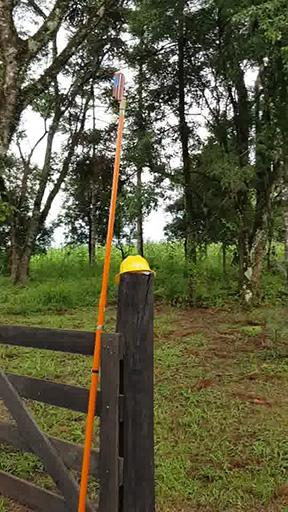Detector_Tensao_Contato: (110, 65, 126, 102)
Vara_Manobra: (77, 102, 126, 512)
